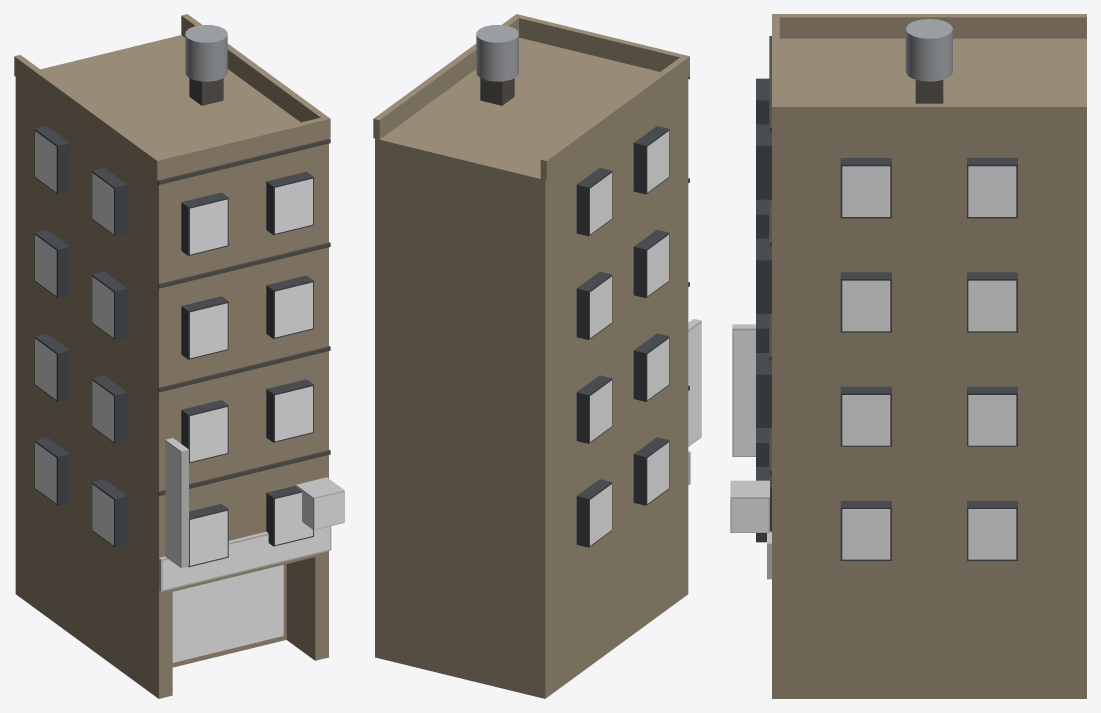
Rendered from shophouse-5.glb.
3 views of the same model, side by side, from view 1: azimuth 30°, elevation 25°; view 2: azimuth 150°, elevation 25°; view 3: azimuth 270°, elevation 25° (orthographic). The views are drawn at different scales.
Parts seen in each view (by area): view 1: body, decal_window, decal_storefront, decal_banner, decal_vsign, decal_cube; view 2: body, decal_window, decal_vsign; view 3: body, decal_window, decal_vsign, decal_cube.
Part boxes in pixels (box(x1,y1,x2,y2)): body: box(14, 14, 344, 698); decal_window: box(35, 131, 312, 565); decal_storefront: box(172, 565, 283, 662); decal_banner: box(162, 526, 329, 589); decal_vsign: box(165, 441, 180, 565); decal_cube: box(296, 486, 343, 529); body: box(373, 14, 701, 698); decal_window: box(590, 131, 668, 545); decal_vsign: box(688, 323, 701, 445); body: box(730, 14, 1086, 698); decal_window: box(842, 166, 1016, 559); decal_vsign: box(733, 330, 755, 455); decal_cube: box(731, 498, 768, 532).
Bounding box in the file's own units: 6.32 × 18 × 9.06.
